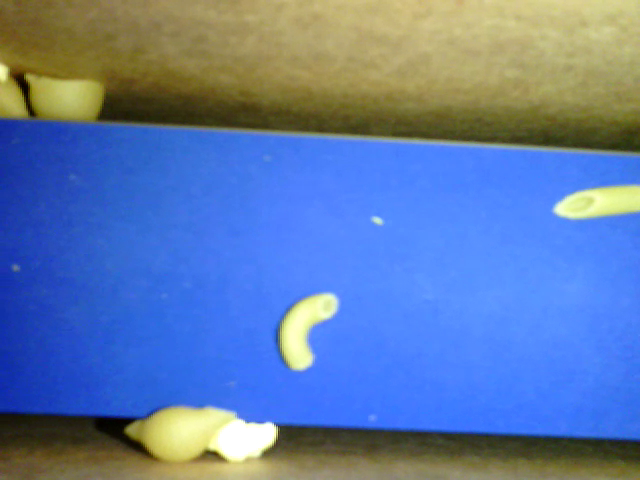elbow: (279, 290, 343, 371)
penne: (550, 187, 639, 224)
shell: (120, 407, 240, 460), (25, 72, 106, 120)
